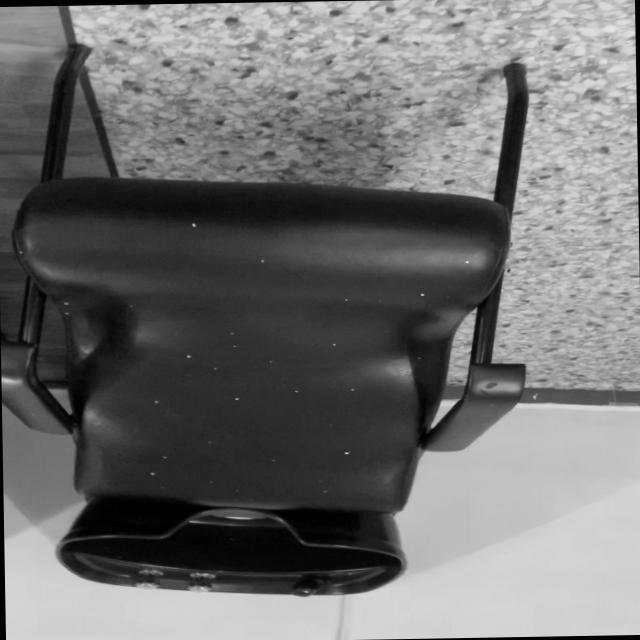chair: (0, 34, 549, 517)
